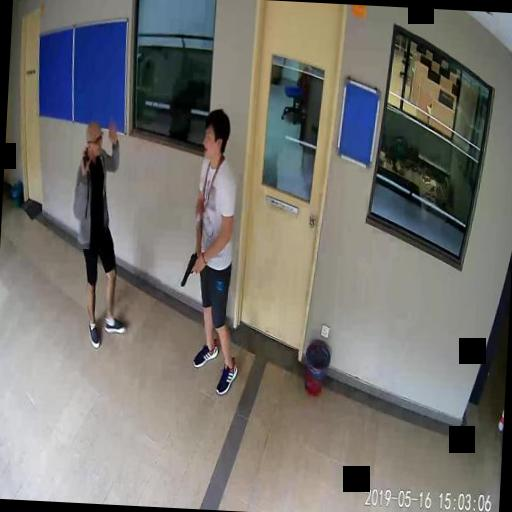Handgun: (180, 251, 198, 286)
